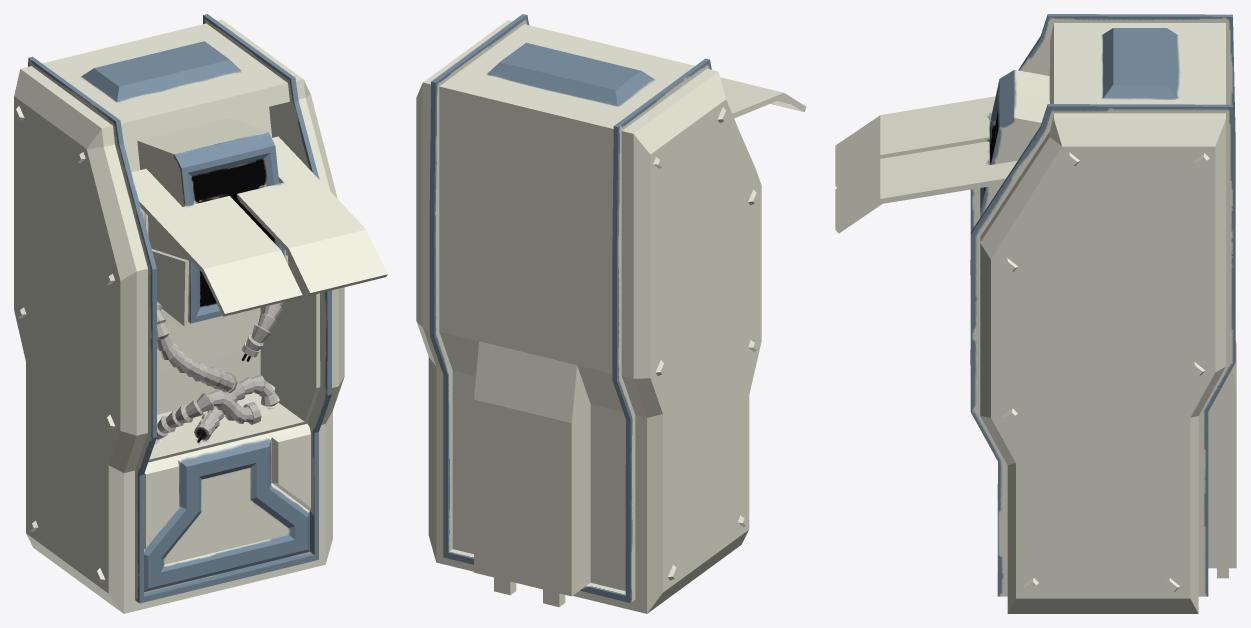
File: Cablebox_open_separated.fbx
The picture shows the model from 3 angles, left to right: view 1: azimuth 30°, elevation 25°; view 2: azimuth 150°, elevation 25°; view 3: azimuth 270°, elevation 25°; orthographic projection. The views are drawn at different scales.
Parts seen in each view (by area): view 1: node_id4; view 2: node_id4; view 3: node_id4.
Part boxes in pixels (x1,y1,x2,y2): node_id4: (14,14,387,613); node_id4: (416,14,806,613); node_id4: (835,14,1236,613).
Bounding box in the file's own units: 0.2587 × 0.512 × 0.3684.
1 material, 1 textured.
